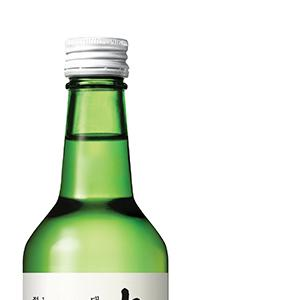soju: (22, 35, 170, 300)
